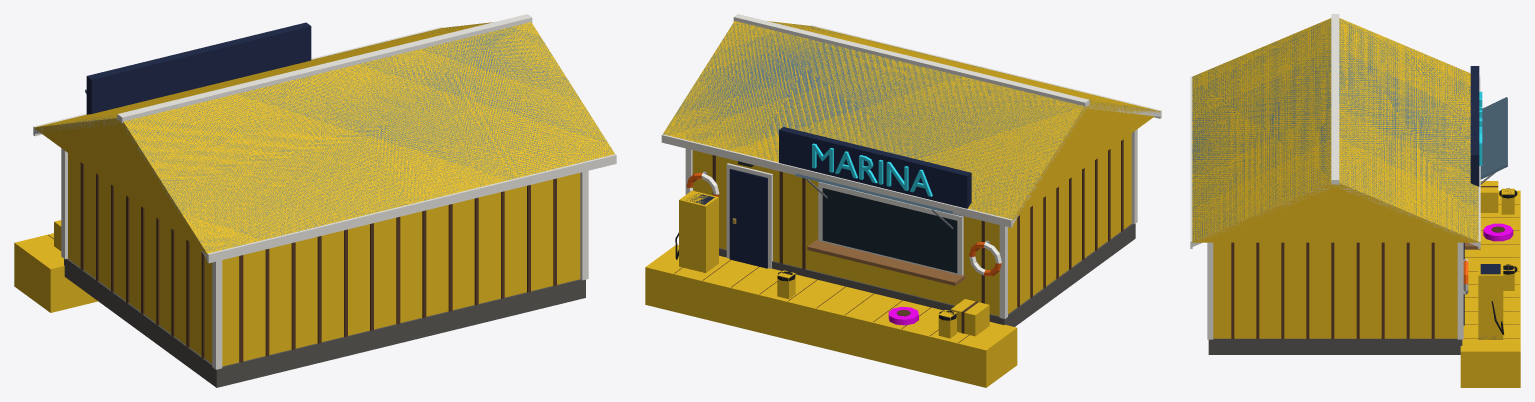
The model's file is lm_boathouse.glb.
3 renders of one model, left to right at view 1: azimuth 30°, elevation 25°; view 2: azimuth 150°, elevation 25°; view 3: azimuth 270°, elevation 25°, orthographic. The views are drawn at different scales.
Parts seen in each view (by area): view 1: lm_boathouse__col, lm_boathouse__shell; view 2: lm_boathouse__col, lm_boathouse__shell; view 3: lm_boathouse__col, lm_boathouse__shell.
Part boxes in pixels (<box>): lm_boathouse__col: <box>14,22,614,366</box>; lm_boathouse__shell: <box>33,14,616,387</box>; lm_boathouse__col: <box>645,21,1160,387</box>; lm_boathouse__shell: <box>661,14,1161,342</box>; lm_boathouse__col: <box>1190,18,1520,387</box>; lm_boathouse__shell: <box>1190,14,1519,354</box>.
Size of the model in its own units: 7.84 by 4.64 by 6.6.
1 material, 1 textured.
